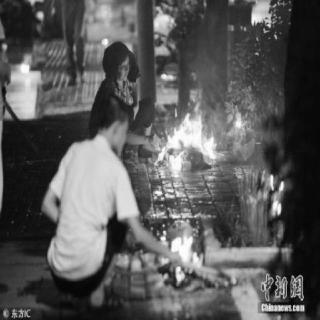Fire: (230, 115, 242, 129)
other: (118, 247, 156, 280)
